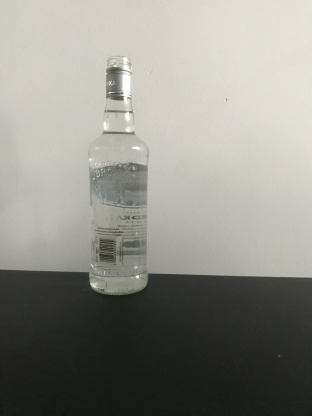nakretka: (103, 53, 134, 101)
